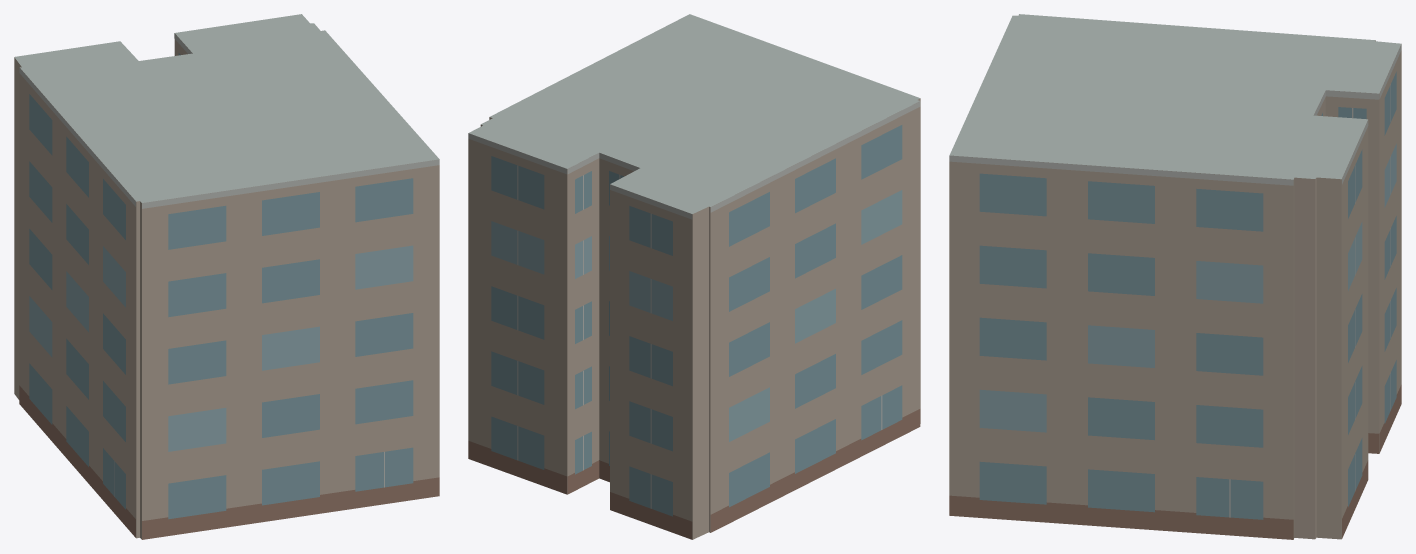
File: survey-upis-32656910.glb
The picture shows the model from 3 angles, left to right: view 1: azimuth 30°, elevation 25°; view 2: azimuth 150°, elevation 25°; view 3: azimuth 270°, elevation 25°; orthographic projection. The views are drawn at different scales.
Visible parts, largest first — view 1: survey-upis-32656910.tmp; view 2: survey-upis-32656910.tmp; view 3: survey-upis-32656910.tmp.
Part boxes in pixels (<box>): survey-upis-32656910.tmp: <box>14,14,439,539</box>; survey-upis-32656910.tmp: <box>468,14,920,539</box>; survey-upis-32656910.tmp: <box>949,14,1401,539</box>.
Bounding box in the file's own units: 14.11 × 14.3 × 16.28.
